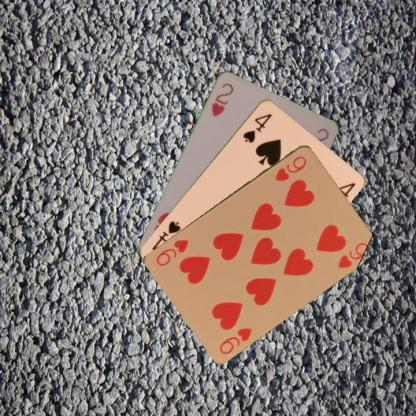2h: (209, 80, 235, 118)
4s: (240, 110, 274, 144)
9h: (216, 324, 254, 356), (272, 152, 309, 182)
